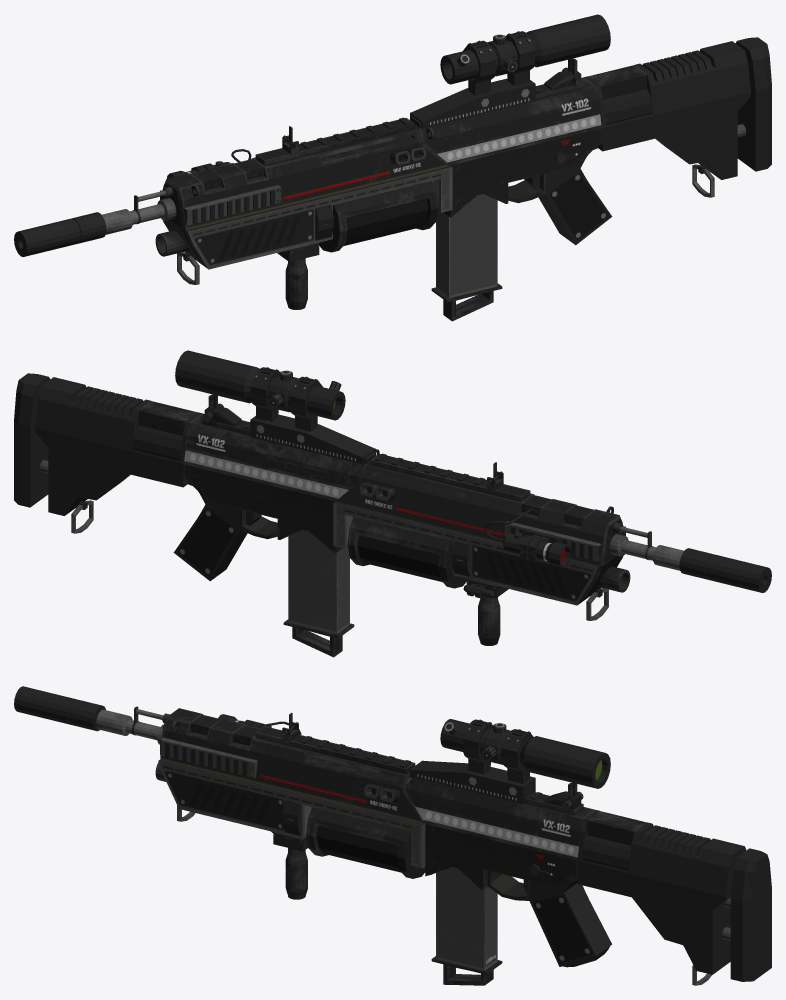
Rendered from ZE8FK2UU5PF8Y5F5777X34XII.obj.
The picture shows the model from 3 angles, top to bottom: view 1: azimuth 30°, elevation 25°; view 2: azimuth 150°, elevation 25°; view 3: azimuth 330°, elevation 25°; orthographic projection.
Parts seen in each view (by area): view 1: Object_TexMap_11, Object_TexMap_6, Object_TexMap_2, Object_TexMap_3, Object_TexMap_4, Object_TexMap_9; view 2: Object_TexMap_11, Object_TexMap_6, Object_TexMap_2, Object_TexMap_3, Object_TexMap_5, Object_TexMap_4, Object_TexMap_9; view 3: Object_TexMap_11, Object_TexMap_6, Object_TexMap_2, Object_TexMap_3, Object_TexMap_4, Object_TexMap_9.
Boxes of the visible parts, x1,y1,x2,y2 form: Object_TexMap_11: [102, 37, 771, 284]; Object_TexMap_6: [410, 14, 610, 128]; Object_TexMap_2: [431, 194, 502, 321]; Object_TexMap_3: [14, 212, 106, 256]; Object_TexMap_4: [277, 243, 319, 309]; Object_TexMap_9: [544, 58, 583, 89]; Object_TexMap_11: [14, 373, 683, 620]; Object_TexMap_6: [175, 350, 375, 464]; Object_TexMap_2: [283, 530, 354, 657]; Object_TexMap_3: [679, 548, 771, 592]; Object_TexMap_5: [484, 508, 571, 567]; Object_TexMap_4: [463, 579, 508, 645]; Object_TexMap_9: [202, 394, 241, 425]; Object_TexMap_11: [96, 706, 771, 985]; Object_TexMap_6: [410, 719, 610, 803]; Object_TexMap_2: [431, 867, 502, 985]; Object_TexMap_3: [14, 686, 105, 731]; Object_TexMap_4: [271, 831, 308, 899]; Object_TexMap_9: [544, 782, 583, 810].
Bounding box in the file's own units: 2.5 × 0.8664 × 0.2806.
1 material, 1 textured.
